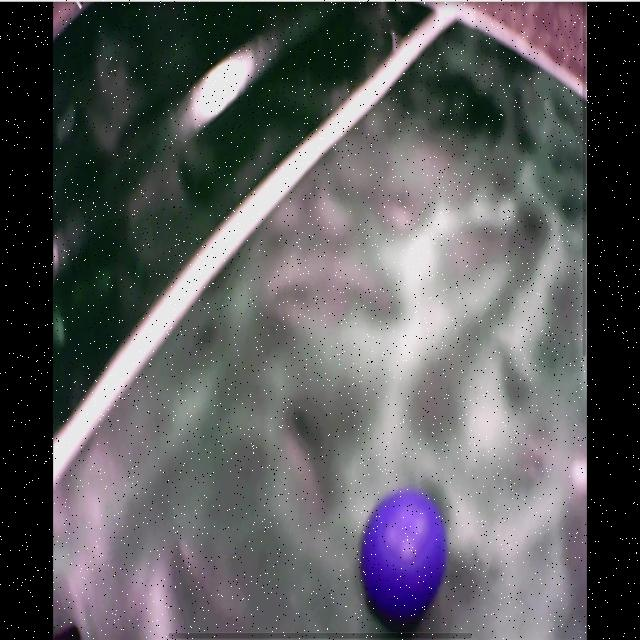ball: (359, 490, 449, 626)
